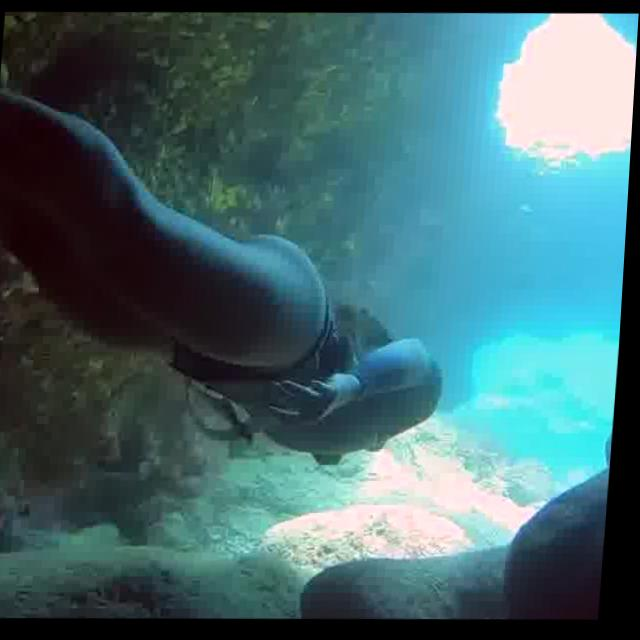human: (0, 5, 488, 481)
